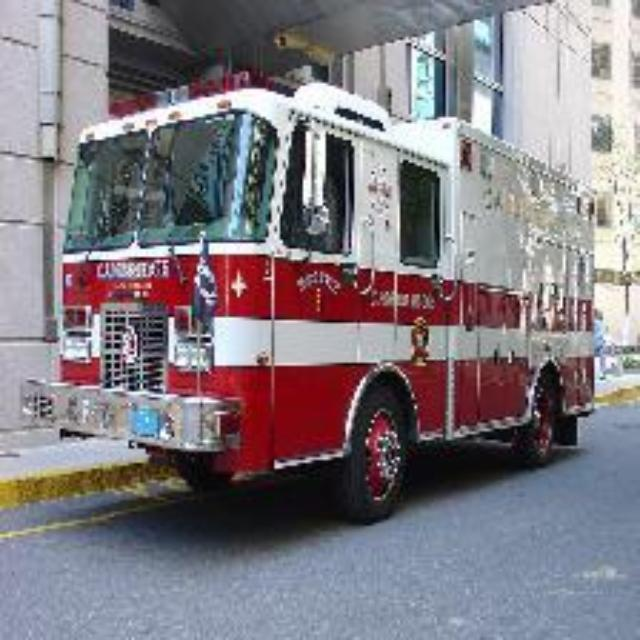emergency: (69, 91, 594, 496)
